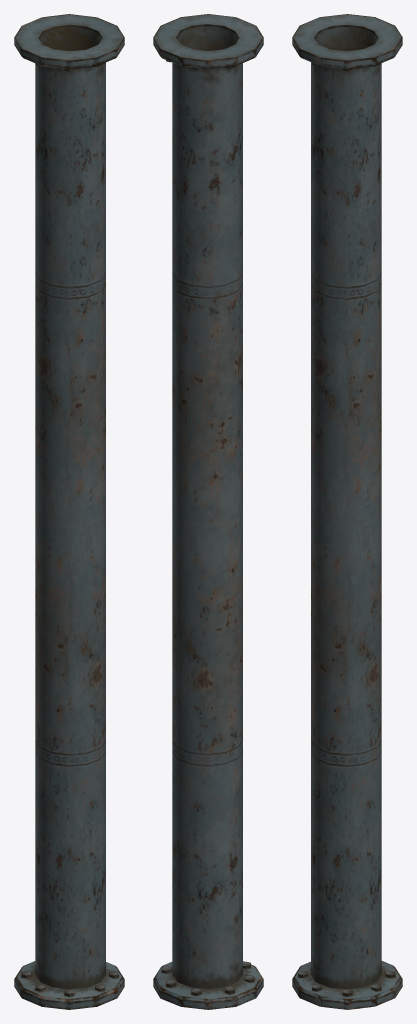
The model's file is modular_industrial_pipes_01_pipe02_Game.fbx.
The picture shows the model from 3 angles, left to right: view 1: azimuth 90°, elevation 25°; view 2: azimuth 210°, elevation 25°; view 3: azimuth 270°, elevation 25°; orthographic projection.
Visible parts, largest first — view 1: modular_industrial_pipes_01_pipe02_Game; view 2: modular_industrial_pipes_01_pipe02_Game; view 3: modular_industrial_pipes_01_pipe02_Game.
Boxes of the visible parts, left/top/right/bottom form: modular_industrial_pipes_01_pipe02_Game: left=14, top=14, right=124, bottom=1009; modular_industrial_pipes_01_pipe02_Game: left=153, top=14, right=263, bottom=1009; modular_industrial_pipes_01_pipe02_Game: left=292, top=14, right=402, bottom=1009.
Bounding box in the file's own units: 0.2071 × 1.95 × 0.2063.
